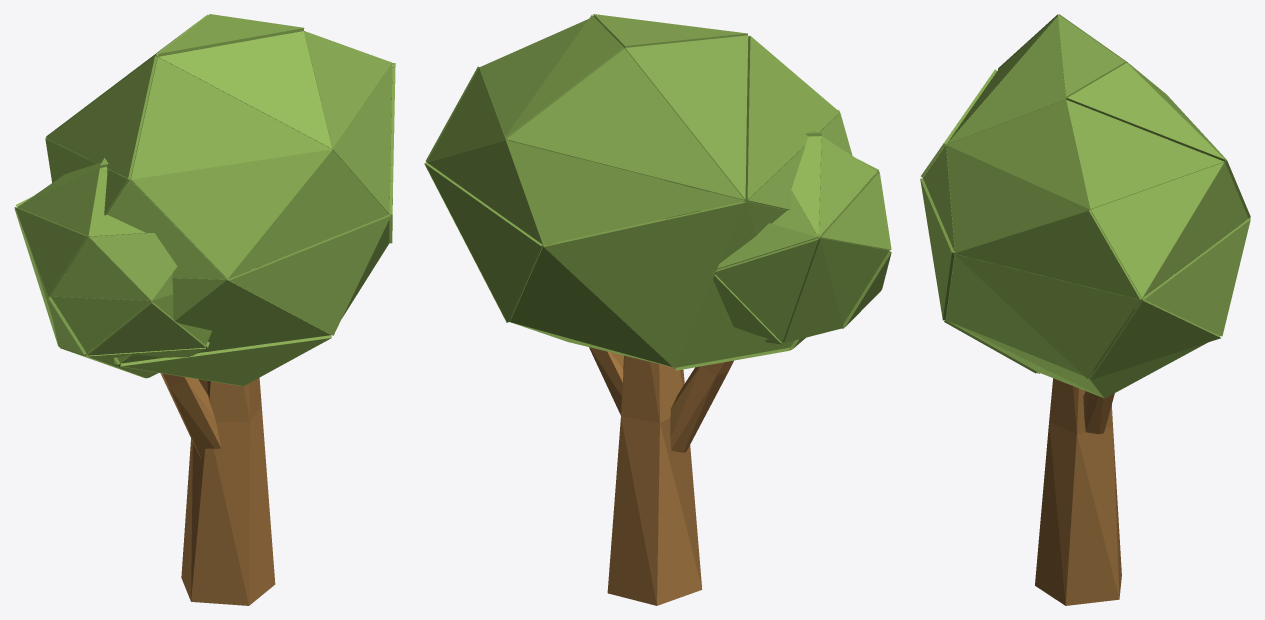
The picture shows the model from 3 angles, left to right: view 1: azimuth 30°, elevation 25°; view 2: azimuth 150°, elevation 25°; view 3: azimuth 270°, elevation 25°; orthographic projection. The views are drawn at different scales.
Visible parts, largest first — view 1: 普通阔叶树_2.001; view 2: 普通阔叶树_2.001; view 3: 普通阔叶树_2.001.
Part boxes in pixels (bbox=[...]): 普通阔叶树_2.001: bbox=[14, 14, 395, 605]; 普通阔叶树_2.001: bbox=[424, 14, 891, 605]; 普通阔叶树_2.001: bbox=[920, 14, 1250, 605].
Size of the model in its own units: 0.9622 by 1.27 by 0.7135.
